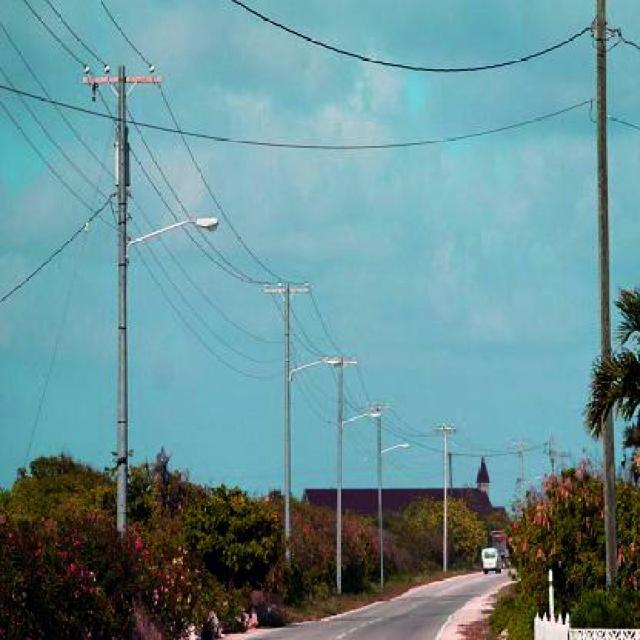crossarm: (80, 66, 163, 92)
pole: (115, 68, 131, 540), (595, 0, 611, 360), (595, 408, 622, 595), (280, 285, 297, 563)
wire: (96, 0, 345, 356), (0, 84, 595, 151), (229, 0, 588, 75), (127, 210, 289, 366), (133, 194, 286, 347), (129, 141, 272, 289), (0, 19, 120, 182), (0, 64, 115, 207), (0, 97, 115, 233), (0, 192, 116, 307), (14, 0, 93, 70), (42, 0, 114, 72)
